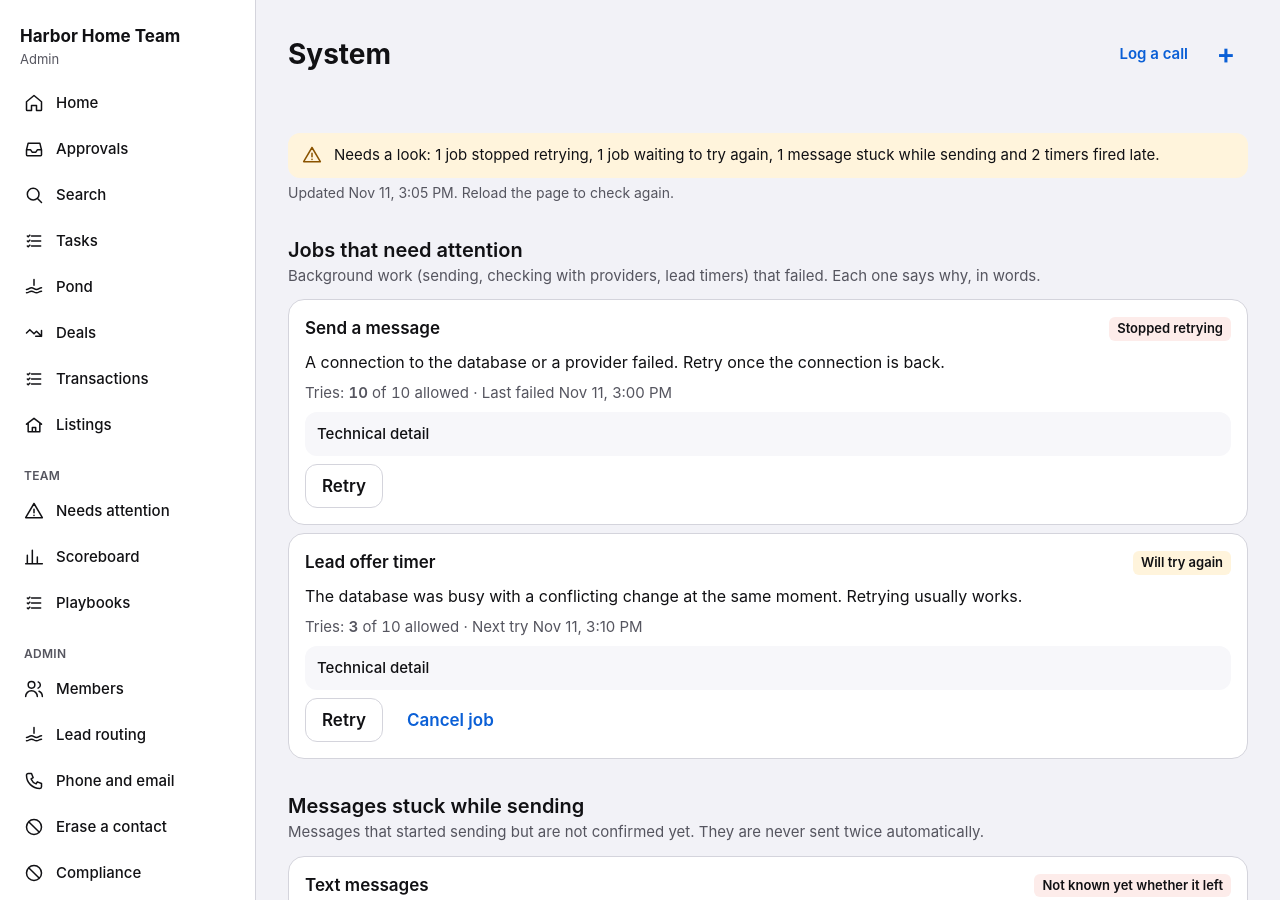
Test: System page › cancel asks first, says a due timer is picked up again, posts, refetches and announces
Step 1. Click the button named "Cancel job: Lead offer timer" → (450, 720), box [391,698,510,742]
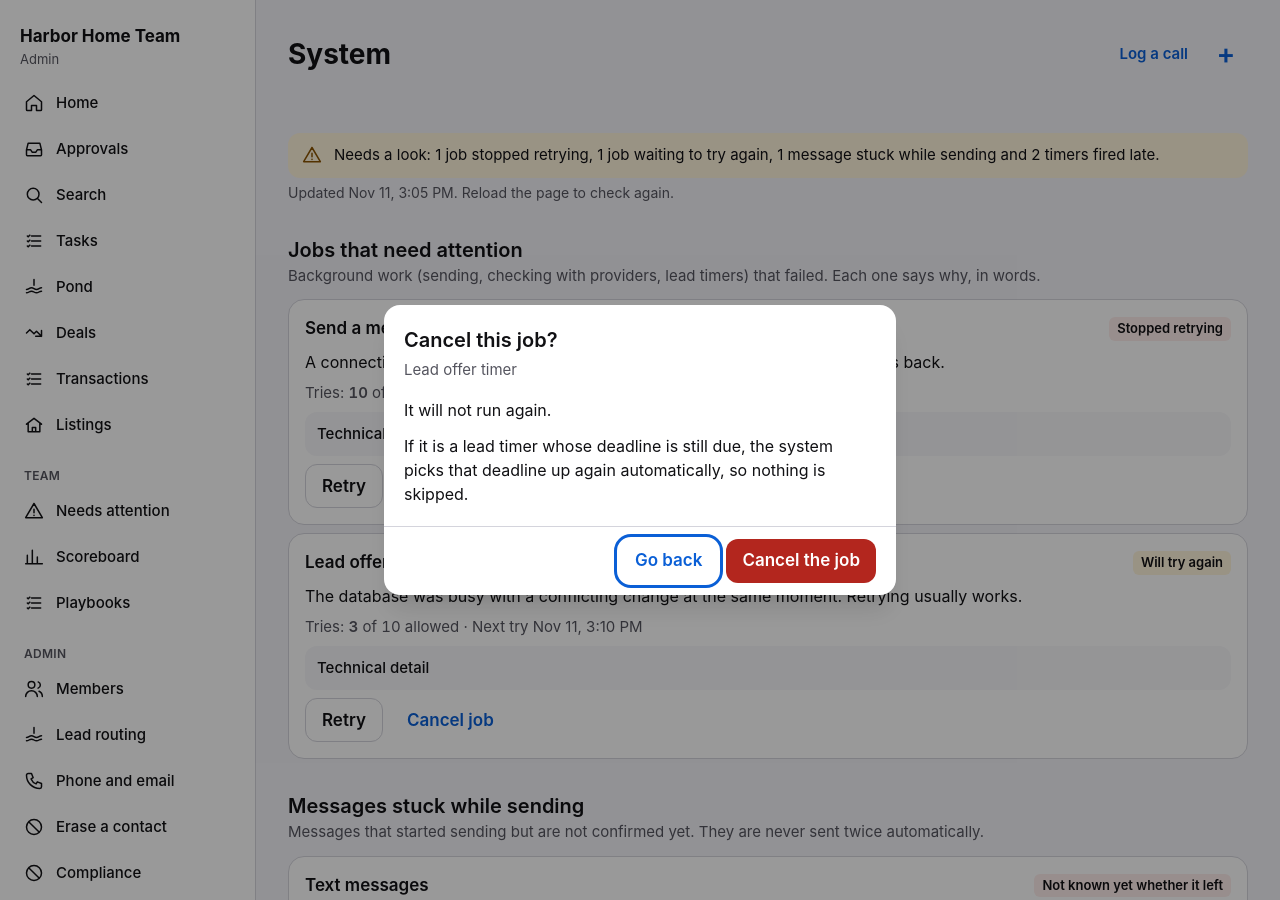
expect the text "picks that deadline up again automatically" is shown: met, box [404,436,833,504]
Step 2. Click the button "Cancel the job" → (801, 561), box [726,539,876,583]
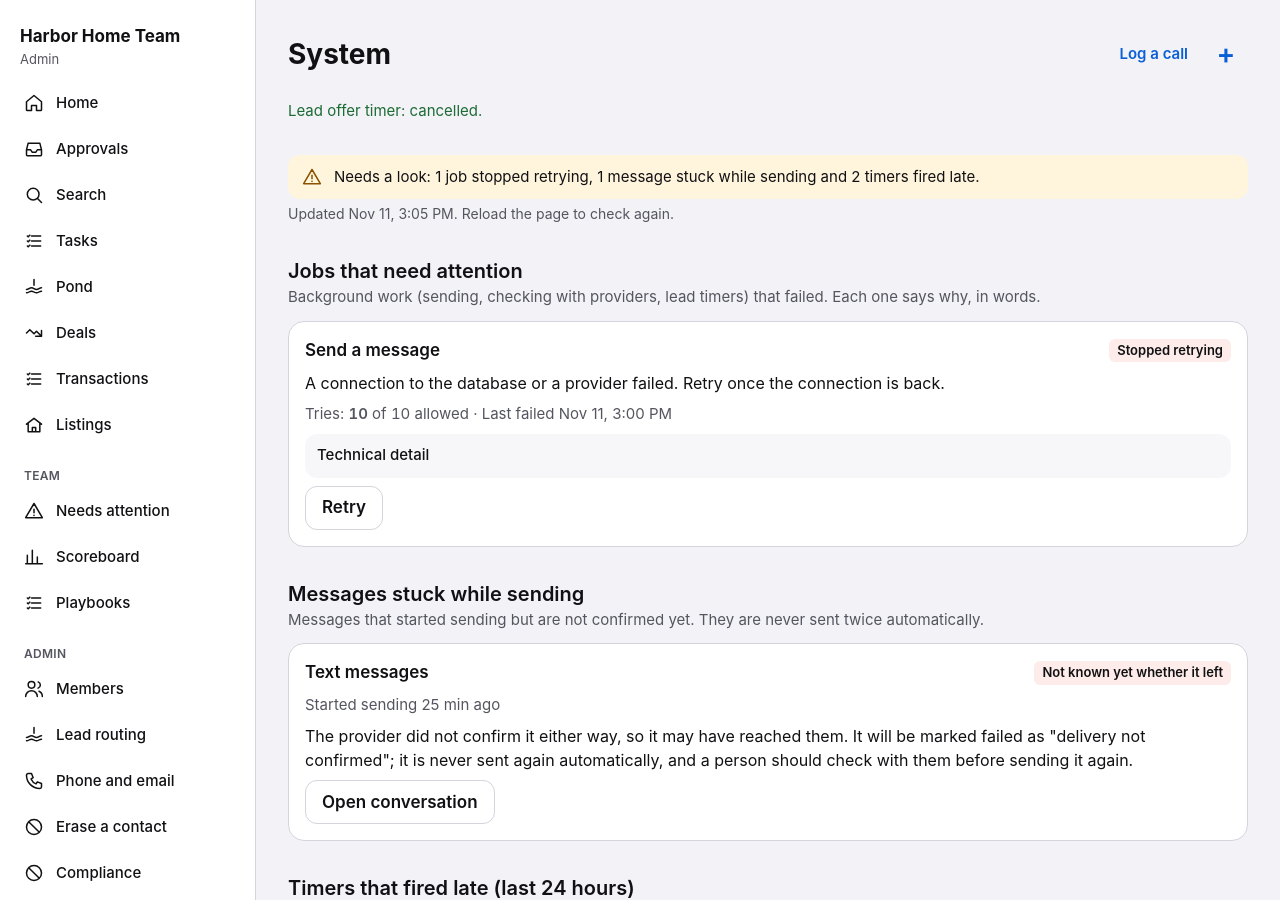
expect the text "Lead offer timer: cancelled." is shown: met, box [288,101,482,120]
